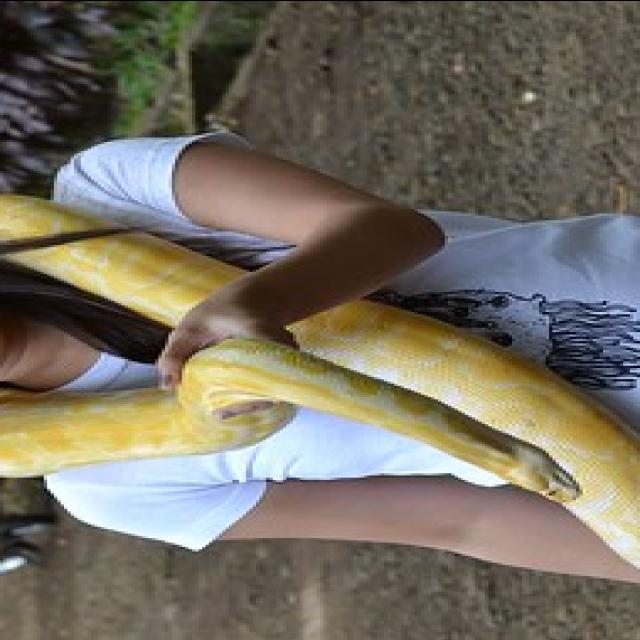snake: (0, 224, 640, 596)
